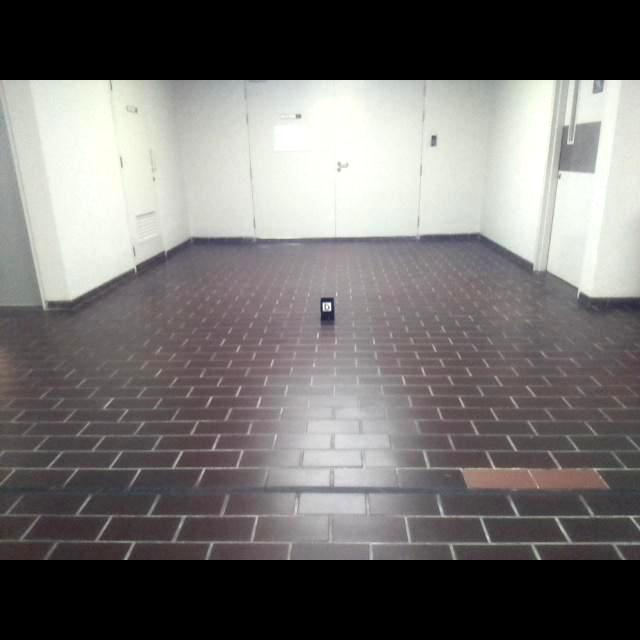D: (323, 302, 331, 312)
